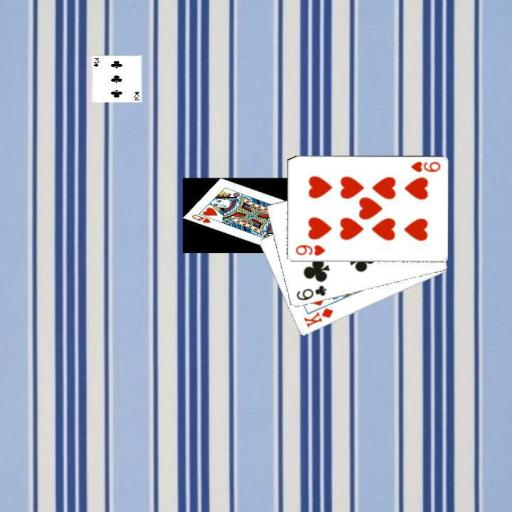6C: (293, 283, 328, 303)
9H: (293, 242, 327, 257), (408, 159, 442, 174)
KD: (301, 305, 335, 329)
